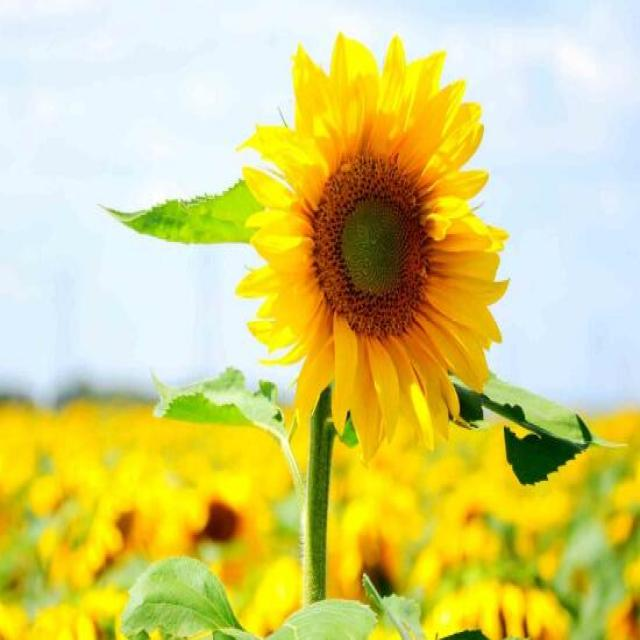sunflower: (227, 25, 511, 476)
